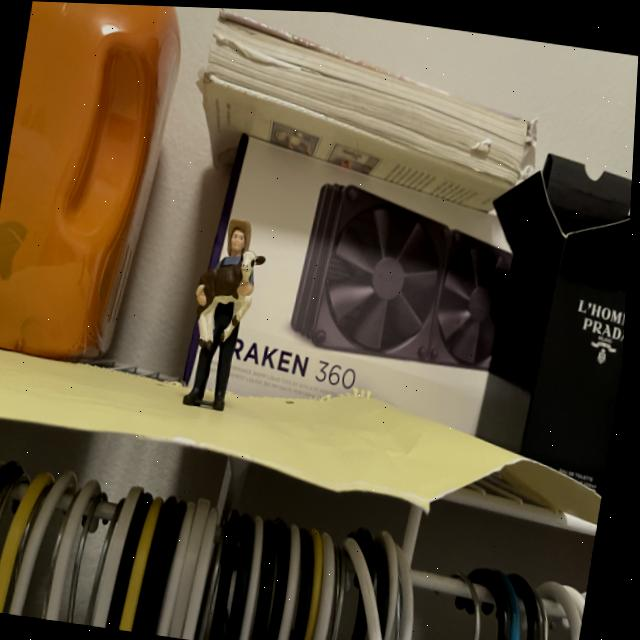cow: (193, 237, 277, 313)
person: (221, 215, 256, 269)
